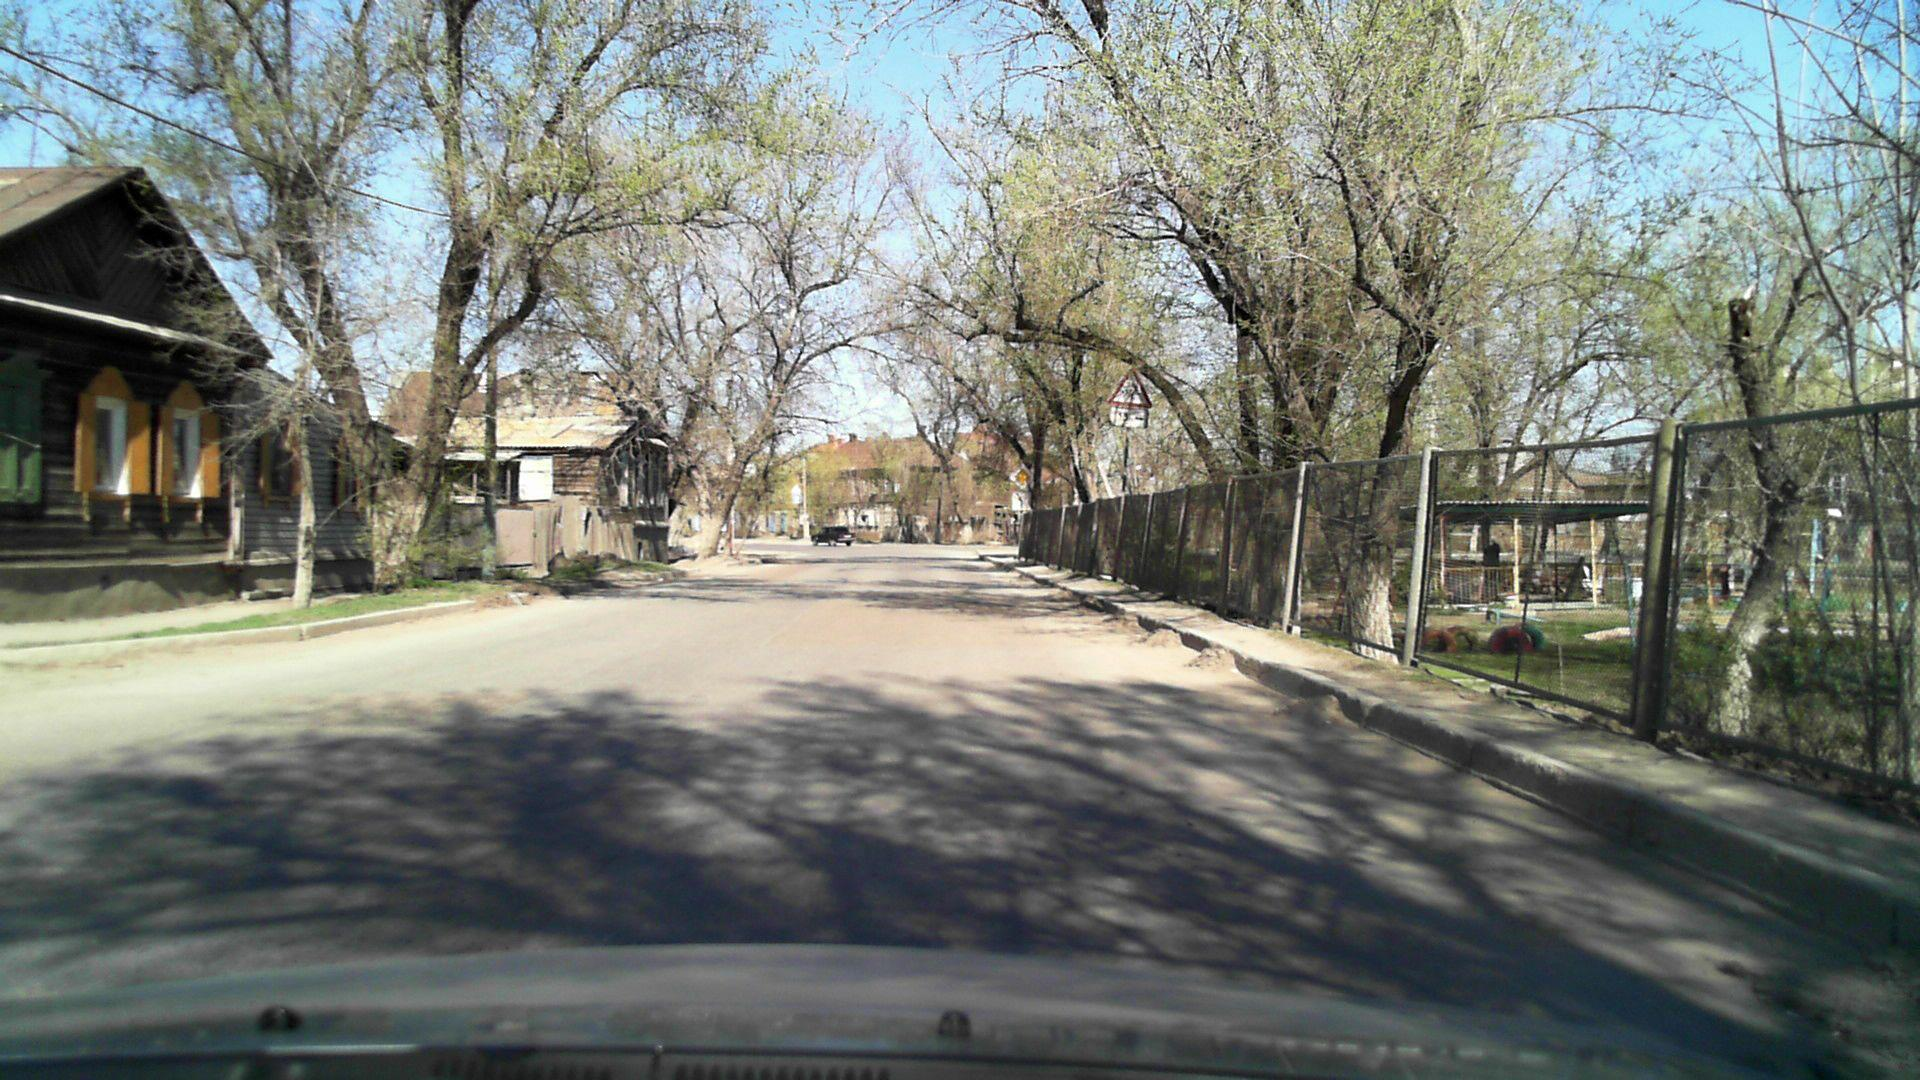1_23: (1106, 365, 1157, 407)
2_1: (1008, 462, 1036, 489)
8_13: (1011, 490, 1031, 509)
8_1_3: (1109, 405, 1151, 429)
